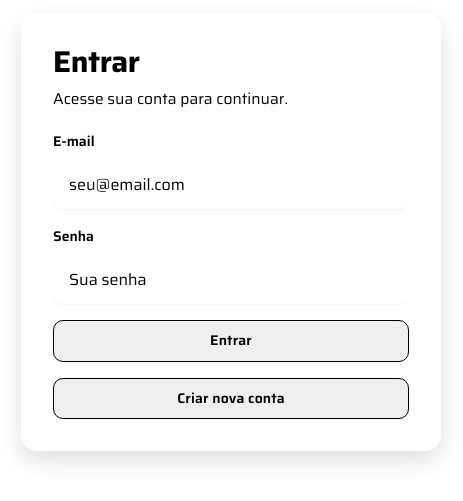
Test case: Login - integration auth flow › shows signup error message when account creation fails
This screenshot has width=463, height=501.
Click the button "Criar nova conta".
click(231, 398)  # box [53,378,409,419]
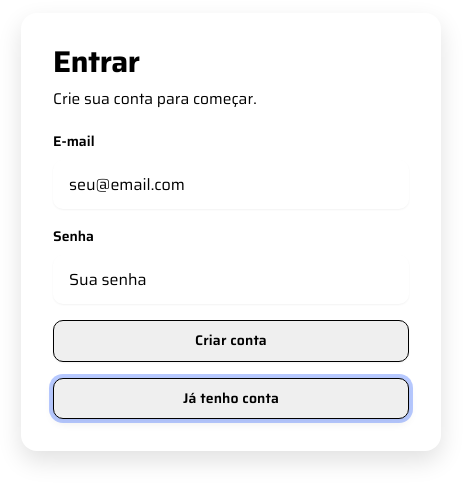
Type "existing@test.com" into the field labelled "E-mail".
click(231, 185); type("existing@test.com")  # box [53,160,409,209]
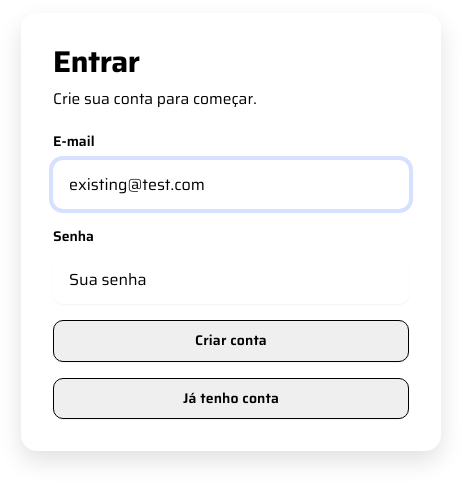
Type "Pass1234" into the password field labelled "Senha".
click(231, 280); type("Pass1234")  # box [53,255,409,304]
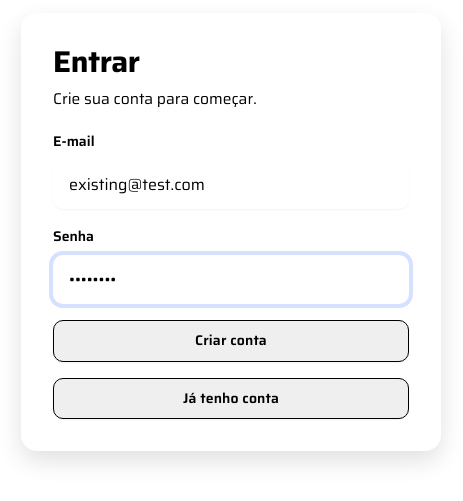
Click the button "Criar conta".
click(231, 341)  # box [53,320,409,362]
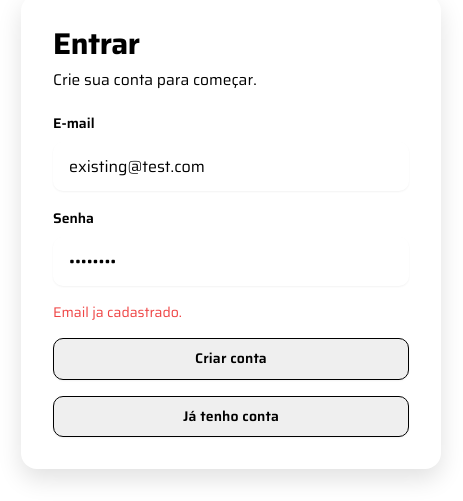
Now the text "Email ja cadastrado." is shown, box [53,301,182,323]
